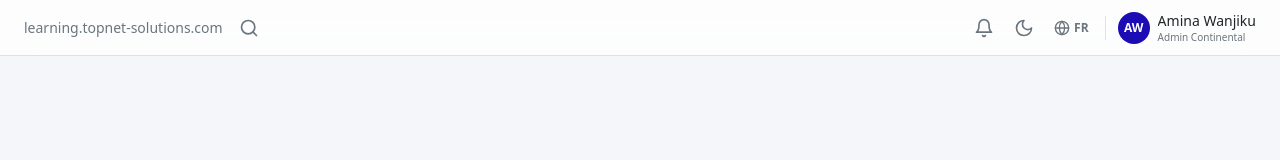
Header › opens search input on search button click
Click the button named "Search".
click(249, 28)  # box [231,10,267,46]
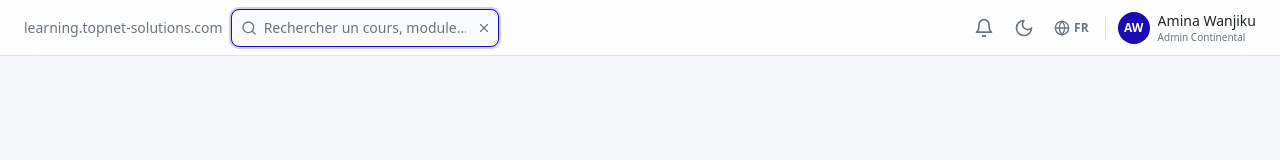
Check: the field with placeholder "Rechercher un cours, module..." is shown, box [231,8,499,46]
